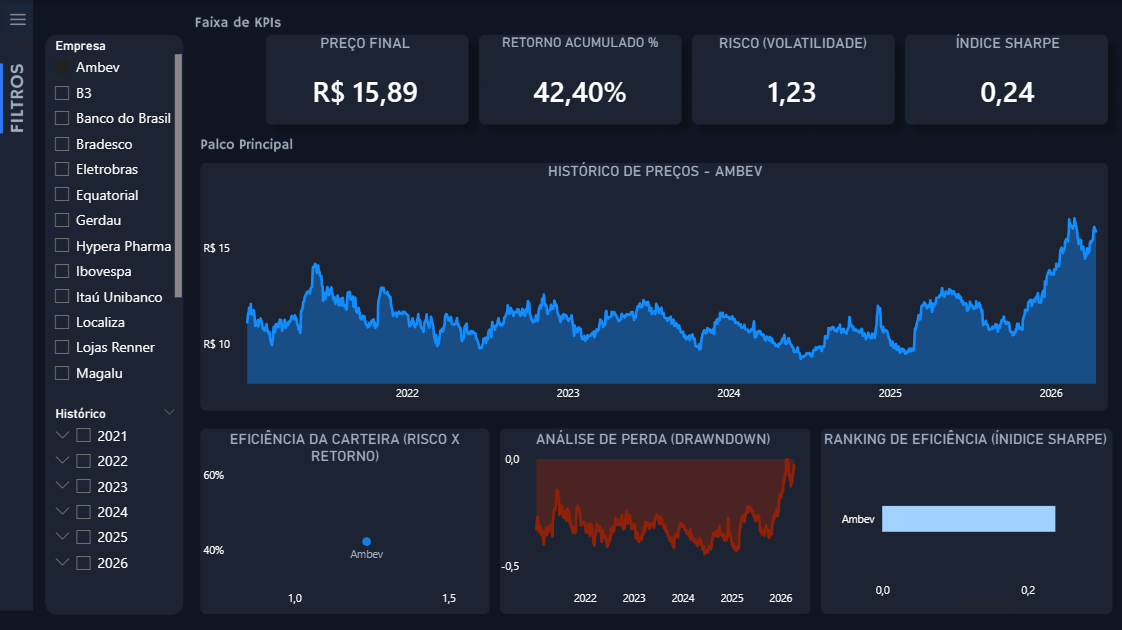

The dashboard page shown, as its layout file describes it:
{"tool":"powerbi","page":{"name":"Página 1","canvas":[1280,720],"ordinal":0},"visuals":[{"type":"cardVisual","title":"RETORNO ACUMULADO %","fields":{"Data":["_Medidas Financeiras.Retorno Acumulado %"]},"box":[545.9,39.2,233.1,106.2],"z":0},{"type":"slicer","fields":{"Values":["dim_ativos.Empresa"]},"box":[50.8,39.2,161.6,408.6],"z":1000},{"type":"cardVisual","title":"PREÇO FINAL","fields":{"Data":["_Medidas Financeiras.Preco Final"]},"box":[303.6,39.2,228.5,106.2],"z":2000},{"type":"cardVisual","title":"ÍNDICE SHARPE","fields":{"Data":["_Medidas Financeiras.Índice Sharpe"]},"box":[1030.7,39.2,236.6,106.2],"z":3000},{"type":"cardVisual","title":"RISCO (VOLATILIDADE)","fields":{"Data":["_Medidas Financeiras.Risco (Volatilidade)"]},"box":[789.5,39.2,229.7,106.2],"z":4000},{"type":"lineChart","fields":{"Category":["fato_cotacoes.Data"],"Y":["_Medidas Financeiras.Preco Final"]},"box":[227.4,184.7,1039.9,281.6],"z":5000},{"type":"scatterChart","title":"EFICIÊNCIA DA CARTEIRA (RISCO X RETORNO)","fields":{"X":["_Medidas Financeiras.Risco (Volatilidade)"],"Y":["_Medidas Financeiras.Retorno Acumulado %"],"Category":["dim_ativos.Empresa"]},"box":[227.4,489.4,332.4,210.1],"z":6000},{"type":"clusteredBarChart","title":"RANKING DE EFICIÊNCIA (ÍNIDICE SHARPE)","fields":{"Category":["dim_ativos.Empresa"],"Y":["_Medidas Financeiras.Índice Sharpe"]},"box":[933.7,489.4,333.6,210.1],"z":7000},{"type":"areaChart","title":"ANÁLISE DE PERDA (DRAWNDOWN)","fields":{"Category":["fato_cotacoes.Data"],"Y":["_Medidas Financeiras.Drawdown %"]},"box":[566.7,489.4,357.8,210.1],"z":8000},{"type":"slicer","fields":{"Values":["fato_cotacoes.Data.Variation.Hierarquia de datas.Ano","fato_cotacoes.Data.Variation.Hierarquia de datas.Mês","fato_cotacoes.Data.Variation.Hierarquia de datas.Dia"]},"box":[50.8,458.2,161.6,237.8],"z":9000}]}

Visuals, with their boxes on the page's 1280x720 design canvas (x1, y1, x2, y2). These are canvas units, not pixel positions in the 1122x630 screenshot, which may show the page scaled, cropped or inside an application window:
"RETORNO ACUMULADO %" cardVisual: bbox=(546, 39, 779, 145)
slicer - dim_ativos.Empresa: bbox=(51, 39, 212, 448)
"PREÇO FINAL" cardVisual: bbox=(304, 39, 532, 145)
"ÍNDICE SHARPE" cardVisual: bbox=(1031, 39, 1267, 145)
"RISCO (VOLATILIDADE)" cardVisual: bbox=(790, 39, 1019, 145)
lineChart - fato_cotacoes.Data x _Medidas Financeiras.Preco Final: bbox=(227, 185, 1267, 466)
"EFICIÊNCIA DA CARTEIRA (RISCO X RETORNO)" scatterChart: bbox=(227, 489, 560, 700)
"RANKING DE EFICIÊNCIA (ÍNIDICE SHARPE)" clusteredBarChart: bbox=(934, 489, 1267, 700)
"ANÁLISE DE PERDA (DRAWNDOWN)" areaChart: bbox=(567, 489, 924, 700)
slicer - fato_cotacoes.Data.Variation.Hierarquia de datas.Ano x fato_cotacoes.Data.Variation.Hierarquia de datas.Mês: bbox=(51, 458, 212, 696)
